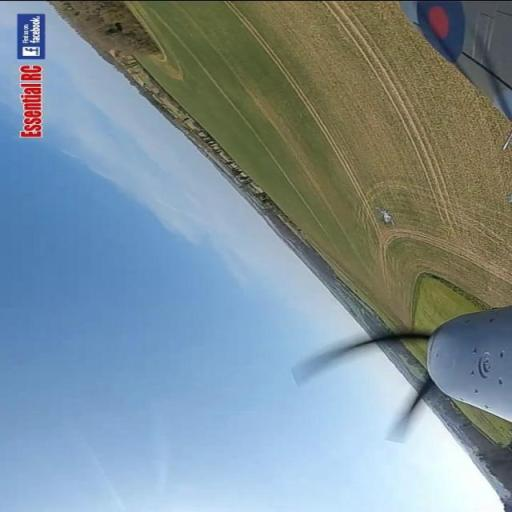uav: (376, 206, 394, 230)
